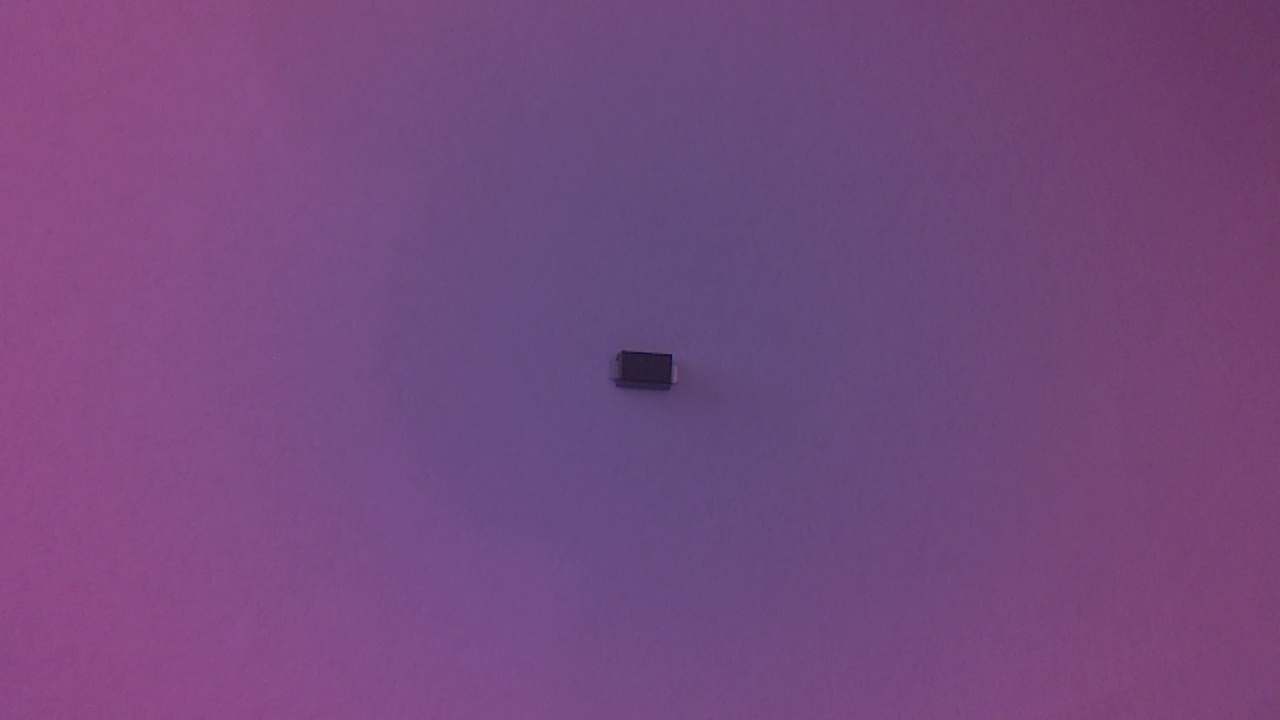Diode: (600, 352, 689, 405)
